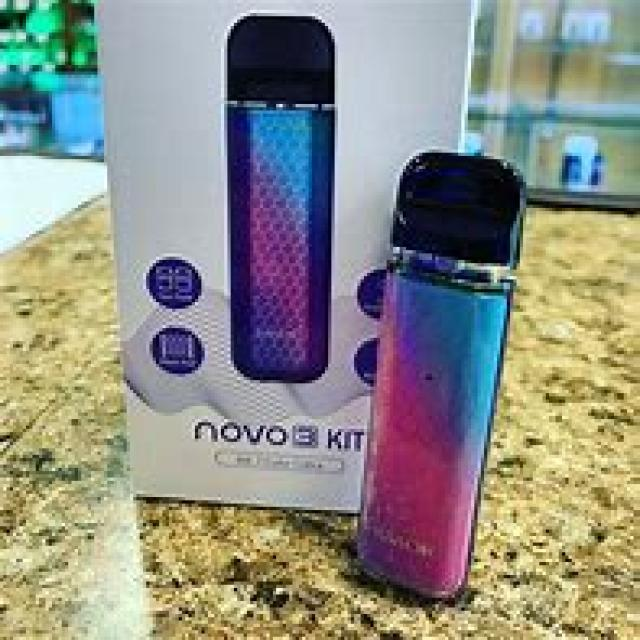Hazard: (358, 141, 532, 606), (222, 8, 335, 390)
